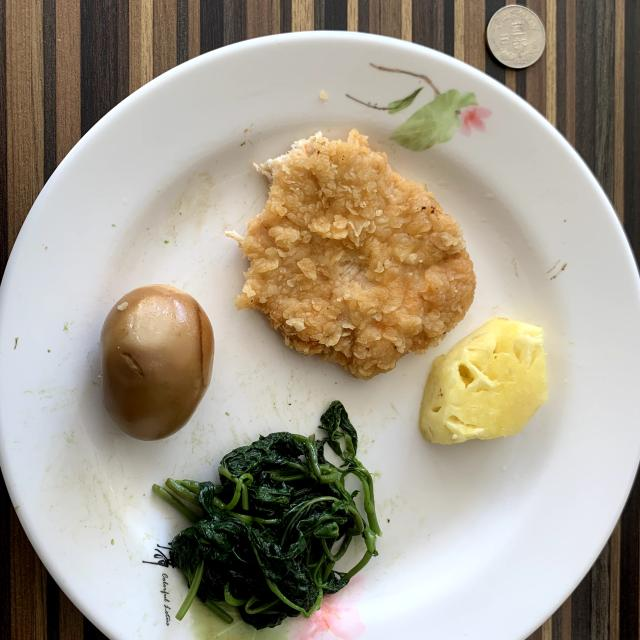coin: (486, 5, 545, 69)
fried chicken cutlet: (228, 130, 475, 379)
pineapple: (419, 318, 548, 444)
soy egg: (100, 284, 214, 440)
sweet potato leaves: (152, 401, 381, 629)
